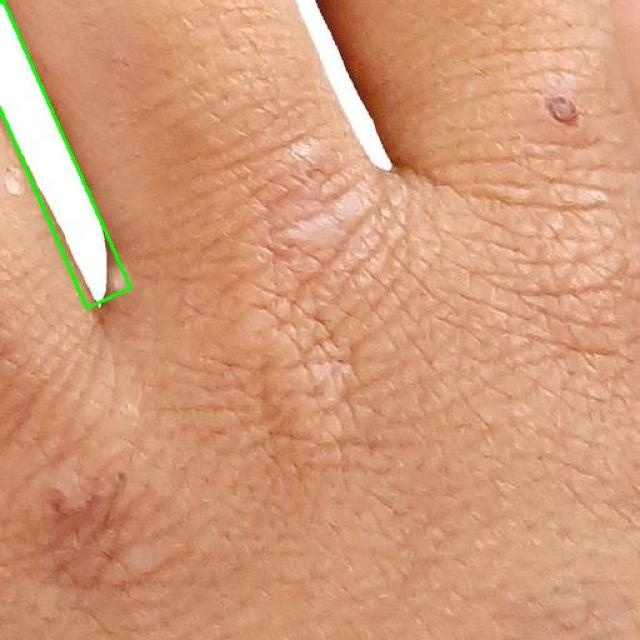Scabies: (0, 0, 132, 308)
